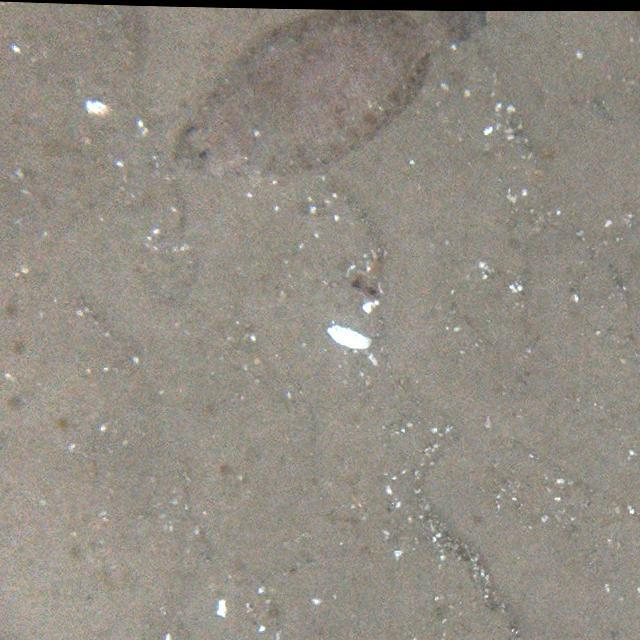flatfish: (165, 7, 486, 184)
